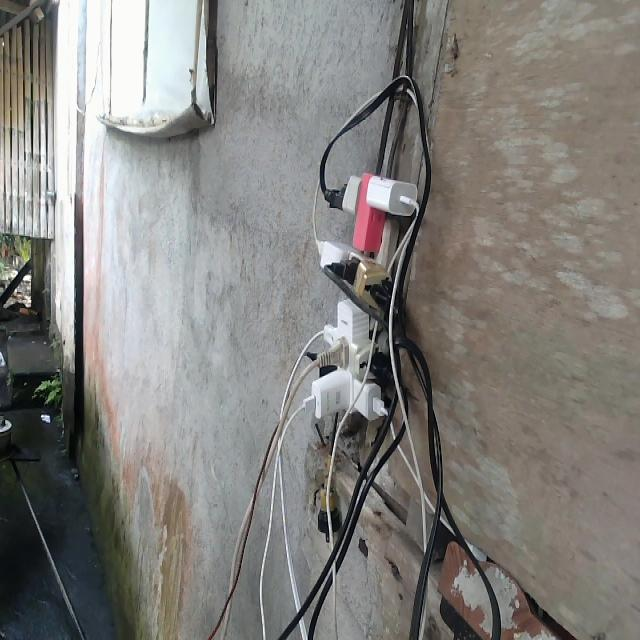-: (300, 169, 419, 431)
